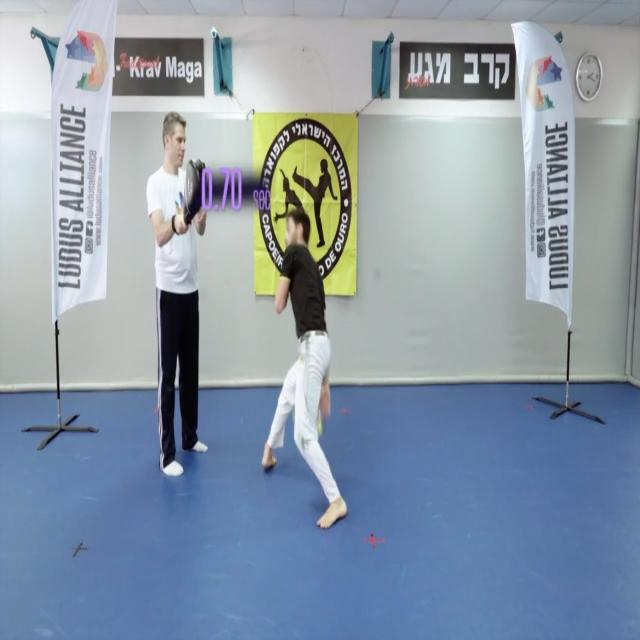paddle: (184, 156, 204, 222)
